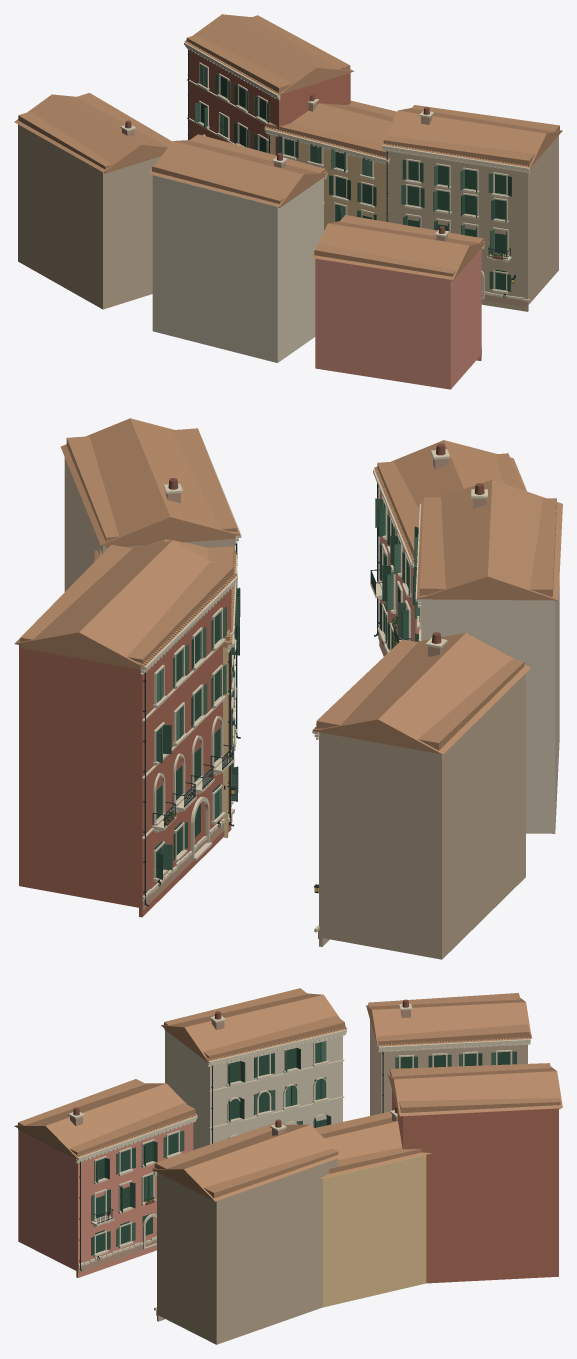
The model's file is canal-03.glb.
The picture shows the model from 3 angles, top to bottom: view 1: azimuth 30°, elevation 25°; view 2: azimuth 150°, elevation 25°; view 3: azimuth 270°, elevation 25°; orthographic projection. The views are drawn at different scales.
Visible parts, largest first — view 1: Main elevations / kit:roof, Main elevations / kit:walls:3, Main elevations / kit:walls:5, Main elevations / kit:walls:1, Distant elevations / kit:walls:5, Distant elevations / kit:roof, Main elevations / kit:stone, Distant elevations / kit:walls:3, Distant elevations / kit:walls:4, Distant elevations / kit:greenDark, Main elevations / kit:green, Distant elevations / kit:walls:1 (+5 smaller); view 2: Main elevations / kit:roof, Main elevations / kit:walls:5, Distant elevations / kit:walls:4, Distant elevations / kit:roof, Main elevations / kit:walls:4, Main elevations / kit:stone, Distant elevations / kit:walls:3, Distant elevations / kit:walls:5, Main elevations / kit:green, Distant elevations / kit:greenDark, Near ironwork and plants / kit:iron, Main elevations / kit:greenDark (+6 smaller); view 3: Main elevations / kit:roof, Main elevations / kit:walls:4, Main elevations / kit:walls:5, Distant elevations / kit:roof, Main elevations / kit:walls:2, Distant elevations / kit:walls:5, Distant elevations / kit:walls:3, Main elevations / kit:stone, Main elevations / kit:walls:1, Distant elevations / kit:walls:1, Distant elevations / kit:greenDark, Main elevations / kit:green (+5 smaller).
Boxes of the visible parts, left/top/right/bottom form: Main elevations / kit:roof: left=14, top=14, right=562, bottom=279; Main elevations / kit:walls:3: left=152, top=175, right=282, bottom=362; Main elevations / kit:walls:5: left=18, top=124, right=558, bottom=311; Main elevations / kit:walls:1: left=315, top=248, right=481, bottom=389; Distant elevations / kit:walls:5: left=105, top=140, right=554, bottom=308; Distant elevations / kit:roof: left=18, top=15, right=559, bottom=280; Main elevations / kit:stone: left=120, top=42, right=530, bottom=348; Distant elevations / kit:walls:3: left=282, top=177, right=323, bottom=359; Distant elevations / kit:walls:4: left=189, top=50, right=348, bottom=149; Distant elevations / kit:greenDark: left=200, top=76, right=506, bottom=290; Main elevations / kit:green: left=194, top=64, right=511, bottom=291; Distant elevations / kit:walls:1: left=451, top=257, right=473, bottom=387; Main elevations / kit:roof: left=14, top=418, right=562, bottom=754; Main elevations / kit:walls:5: left=64, top=457, right=525, bottom=959; Distant elevations / kit:walls:4: left=65, top=589, right=229, bottom=908; Distant elevations / kit:roof: left=20, top=428, right=556, bottom=750; Main elevations / kit:walls:4: left=19, top=589, right=231, bottom=917; Main elevations / kit:stone: left=140, top=438, right=488, bottom=932; Distant elevations / kit:walls:3: left=425, top=599, right=550, bottom=833; Distant elevations / kit:walls:5: left=231, top=539, right=354, bottom=943; Main elevations / kit:green: left=156, top=498, right=419, bottom=870; Distant elevations / kit:greenDark: left=154, top=503, right=408, bottom=855; Near ironwork and plants / kit:iron: left=143, top=483, right=411, bottom=906; Main elevations / kit:greenDark: left=156, top=506, right=418, bottom=879; Main elevations / kit:roof: left=14, top=993, right=562, bottom=1201; Main elevations / kit:walls:4: left=392, top=1090, right=558, bottom=1283; Main elevations / kit:walls:5: left=157, top=1020, right=461, bottom=1344; Distant elevations / kit:roof: left=18, top=988, right=560, bottom=1198; Main elevations / kit:walls:2: left=323, top=1155, right=426, bottom=1307; Distant elevations / kit:walls:5: left=157, top=1021, right=527, bottom=1340; Distant elevations / kit:walls:3: left=169, top=1033, right=342, bottom=1149; Main elevations / kit:stone: left=68, top=1003, right=530, bottom=1310; Main elevations / kit:walls:1: left=18, top=1123, right=193, bottom=1277; Distant elevations / kit:walls:1: left=20, top=1131, right=156, bottom=1270; Distant elevations / kit:greenDark: left=95, top=1042, right=510, bottom=1252; Main elevations / kit:green: left=91, top=1041, right=516, bottom=1246.
Size of the model in its own units: 41.74 by 18.79 by 47.37.
